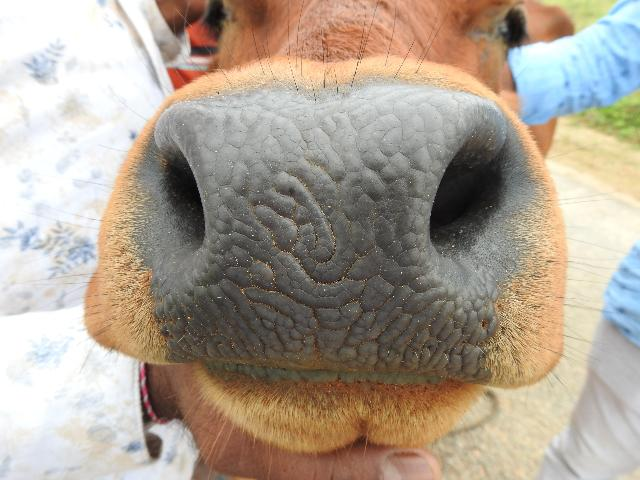Muzzle: (164, 100, 486, 370)
